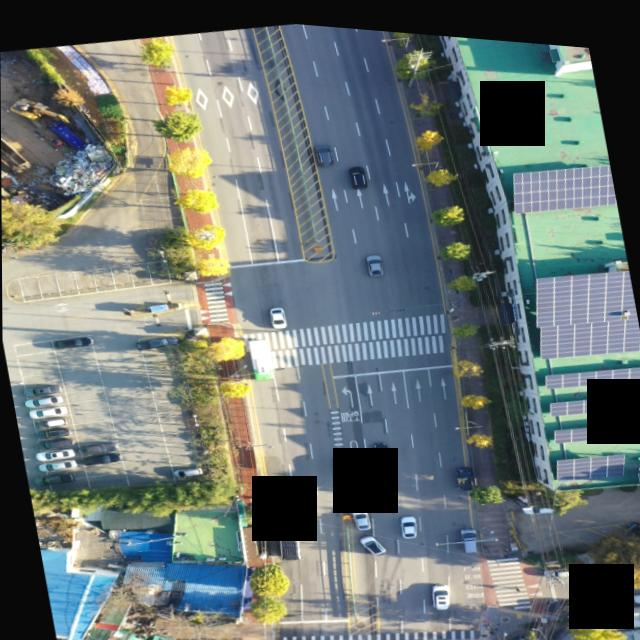car: (131, 328, 182, 353), (32, 467, 77, 489), (543, 586, 586, 607), (79, 447, 120, 468), (32, 443, 75, 463), (24, 401, 67, 421), (31, 434, 74, 454), (76, 436, 119, 456), (51, 331, 93, 351), (18, 380, 61, 399), (456, 517, 481, 549), (36, 455, 78, 474), (355, 527, 385, 553), (31, 423, 71, 442), (310, 135, 335, 164), (518, 490, 554, 510), (344, 158, 369, 186), (426, 575, 449, 604), (361, 246, 385, 273), (348, 498, 370, 527), (31, 413, 66, 430), (266, 299, 288, 326), (24, 393, 61, 409), (170, 461, 203, 478), (395, 507, 416, 532), (620, 508, 640, 532), (369, 434, 391, 455), (540, 558, 571, 570), (628, 579, 640, 594)
large_bus: (267, 499, 305, 560), (241, 329, 277, 380)
medium_truck: (1, 125, 41, 189)
small_truck: (448, 455, 475, 485), (344, 446, 367, 476)
